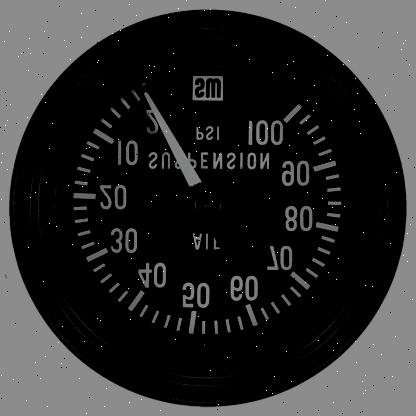needle: (142, 88, 206, 194)
